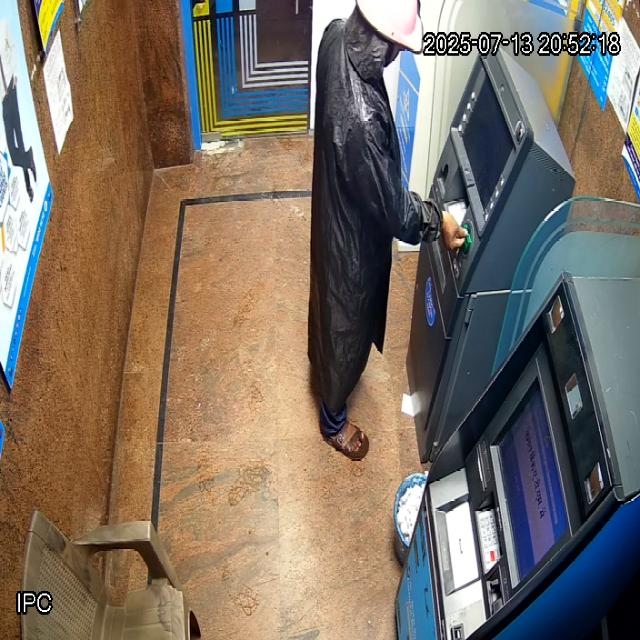helmet: (344, 0, 424, 79)
